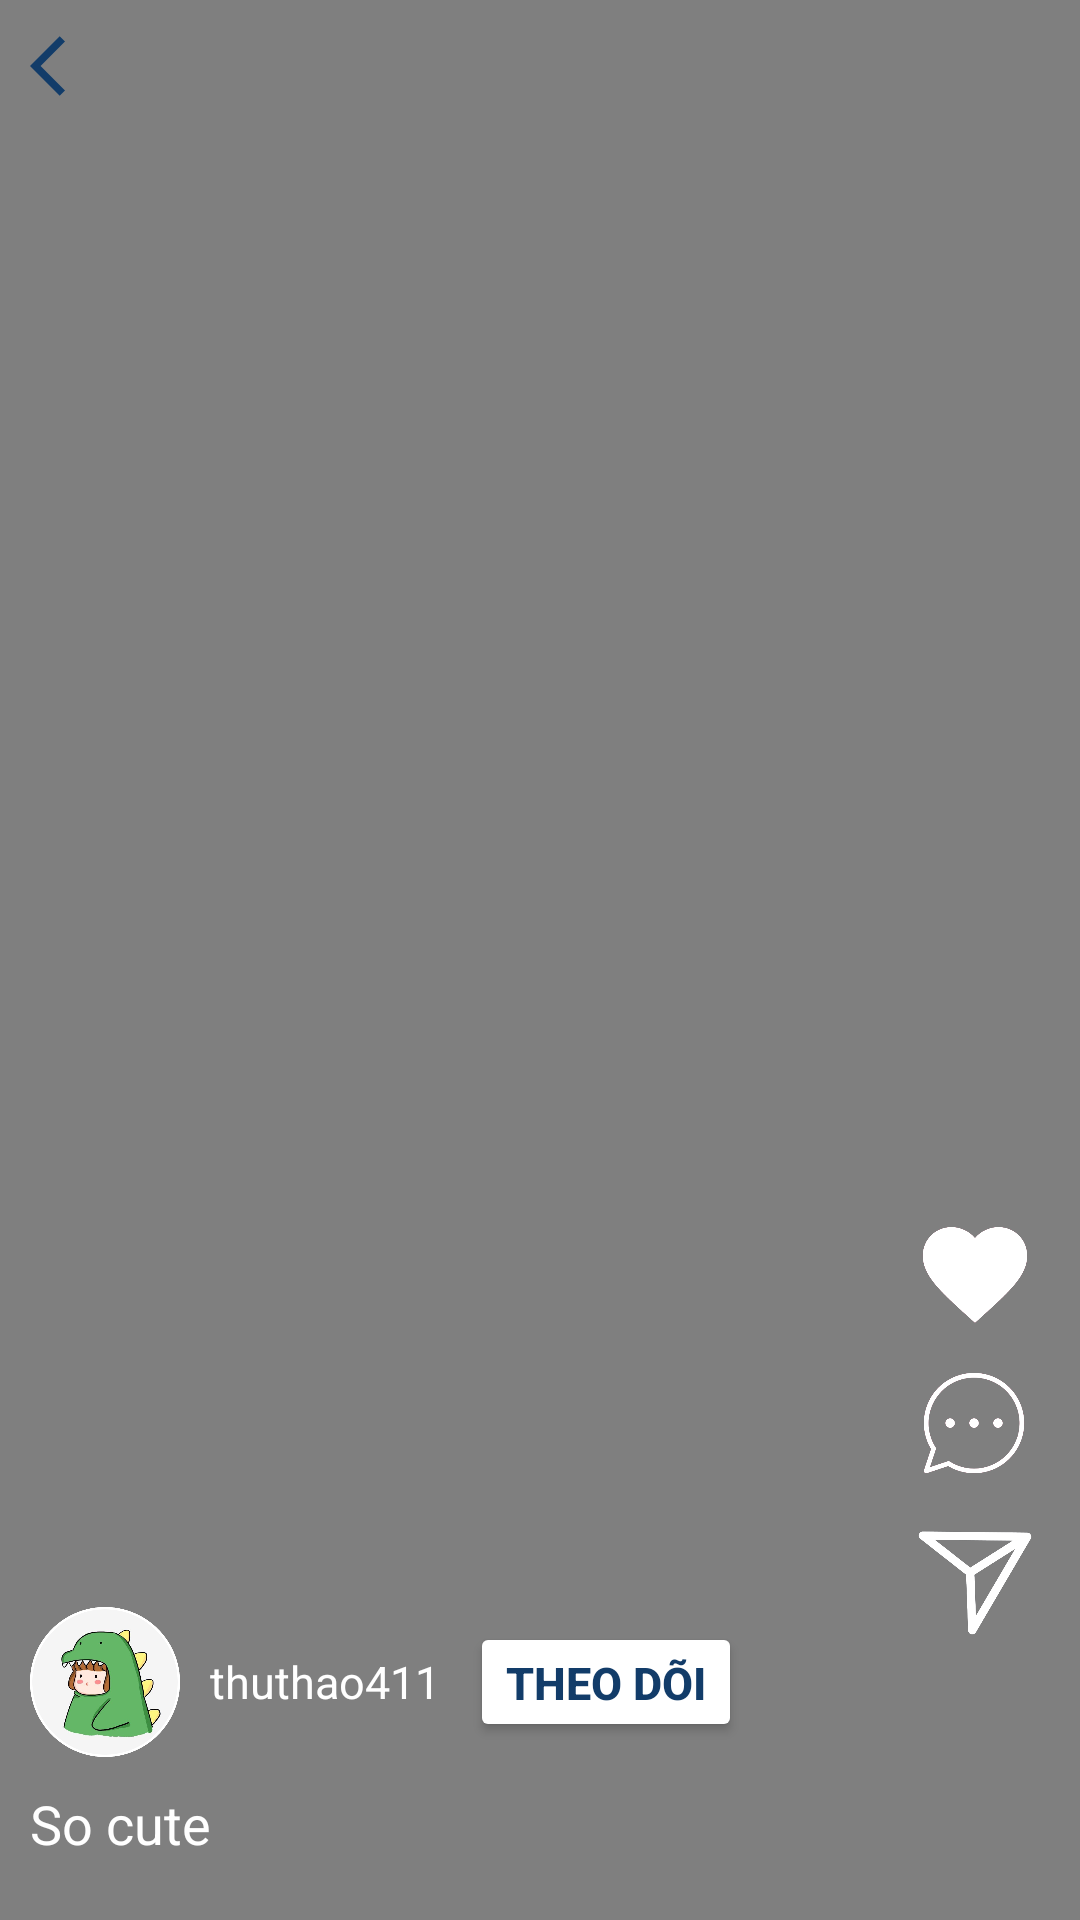

Icons on this 1080px x 1920px Android screen, each with the point to tap as (x=x, y=y):
back: (x=47, y=66)
reels cmt: (x=974, y=1423)
reels heart: (x=975, y=1275)
reels share: (x=975, y=1582)
